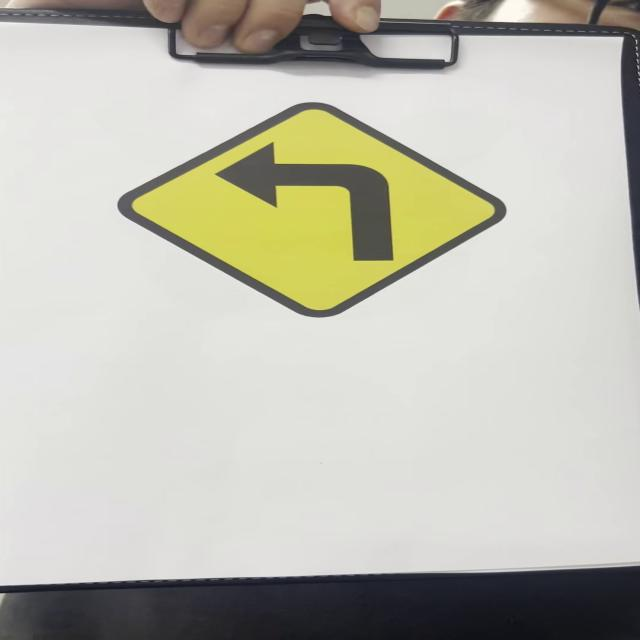left: (137, 102, 501, 311)
